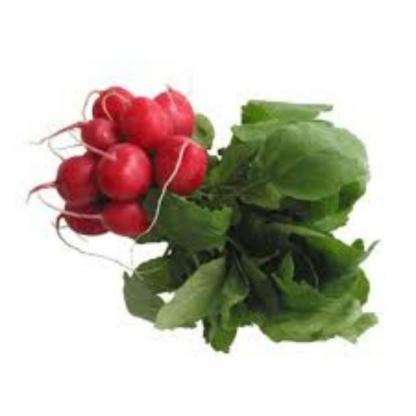rediska: (40, 83, 209, 248)
